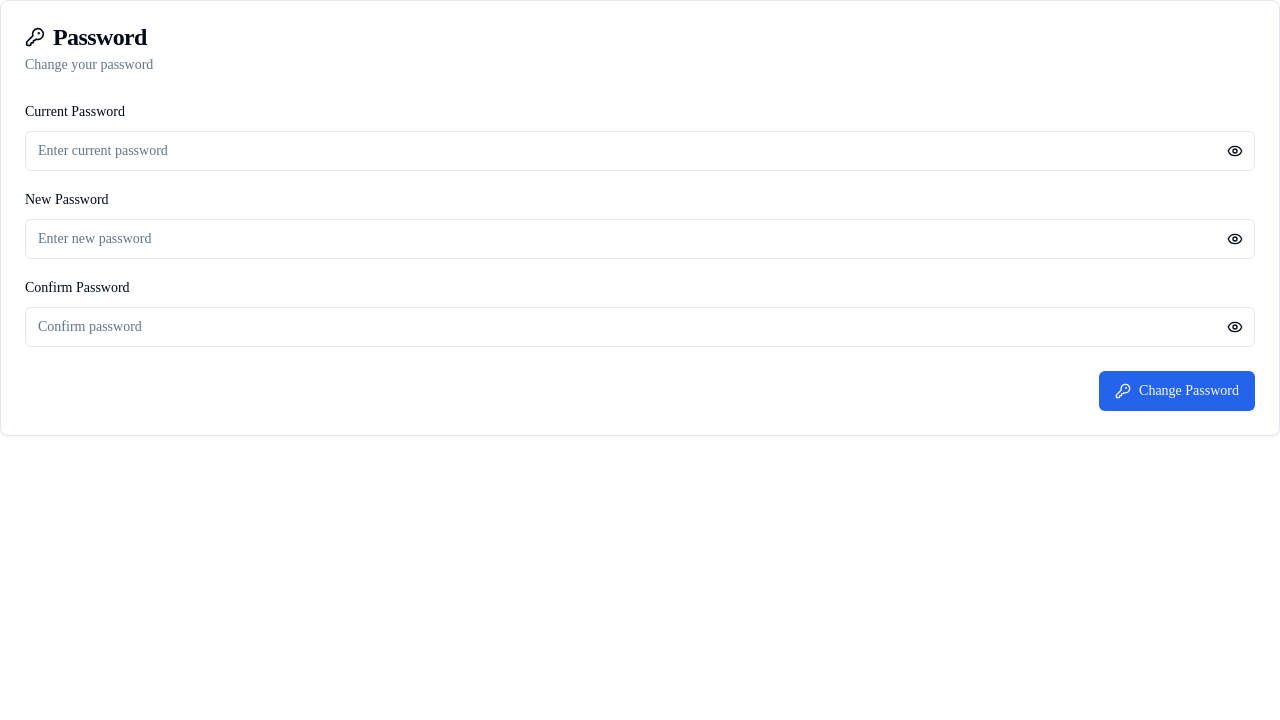
Test: PasswordChange › form submission › should show validation error for missing current password
Type "NewPassword123!" into the password field labelled "New Password".
click(640, 239); type("NewPassword123!")  # box 25,219 -> 1255,259
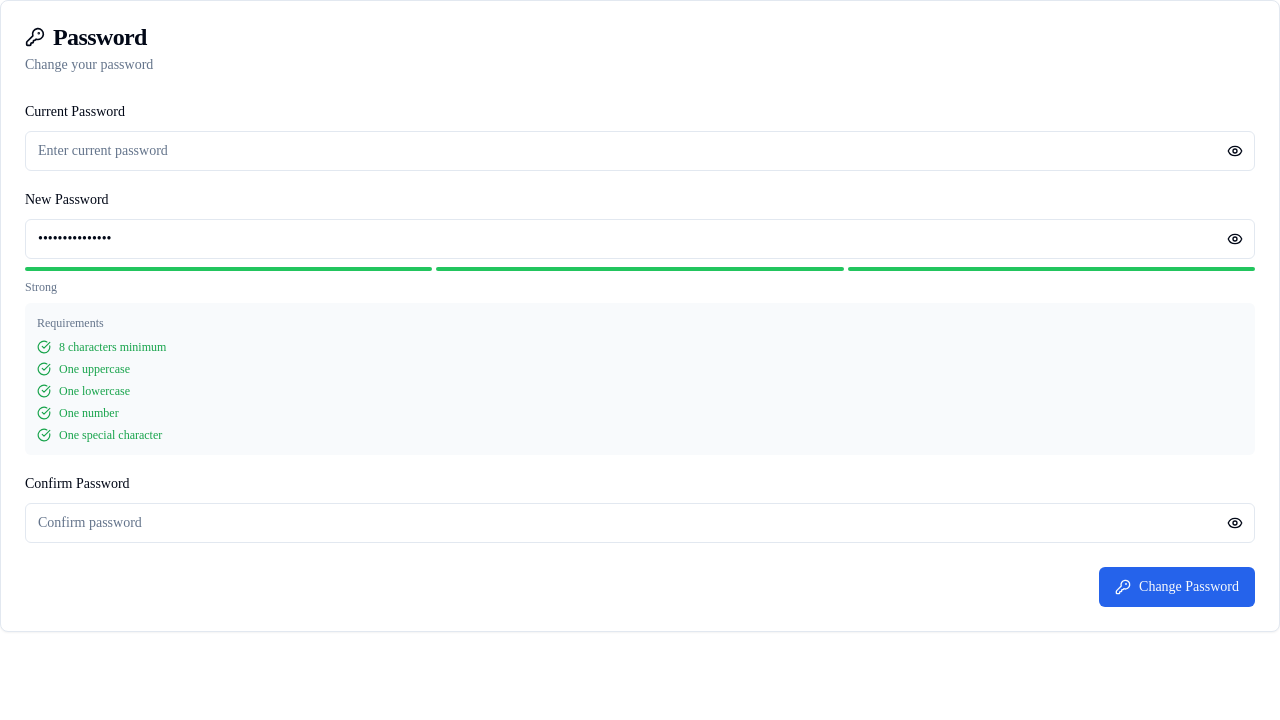
Type "NewPassword123!" into the password field labelled "Confirm Password".
click(640, 523); type("NewPassword123!")  # box 25,503 -> 1255,543
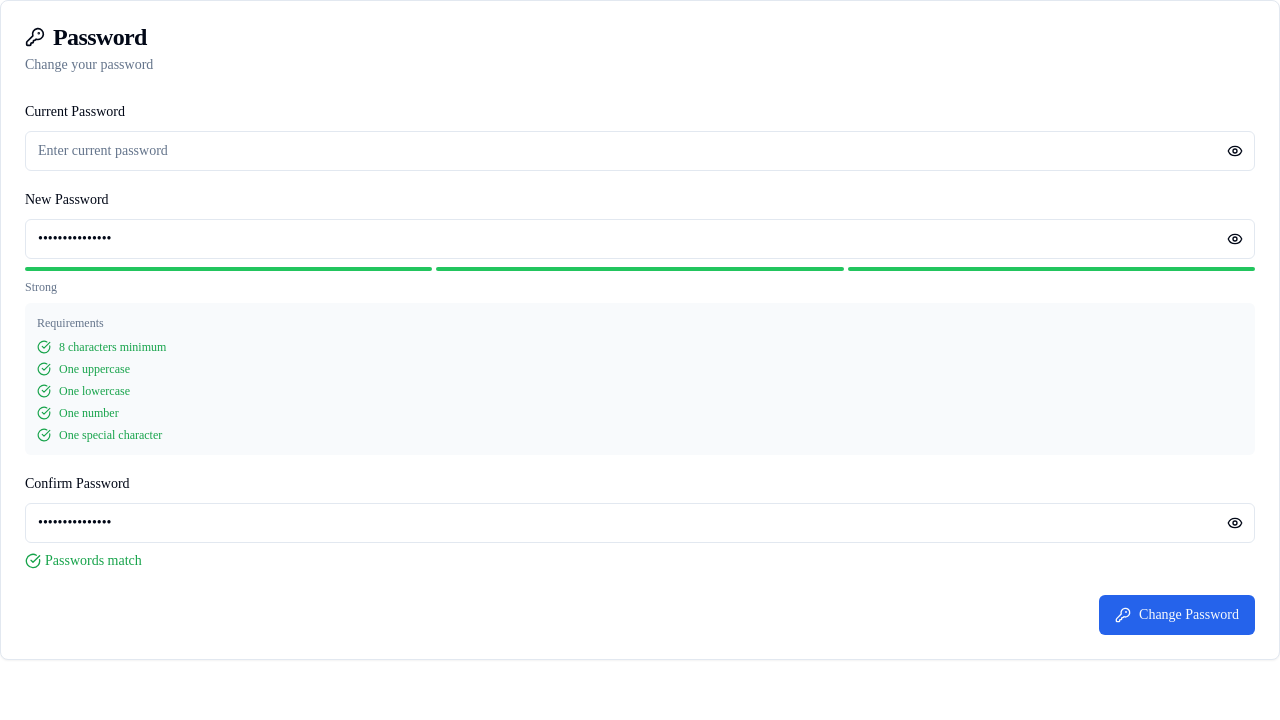
Click the button "Change Password".
click(1177, 615)  # box 1099,595 -> 1255,635
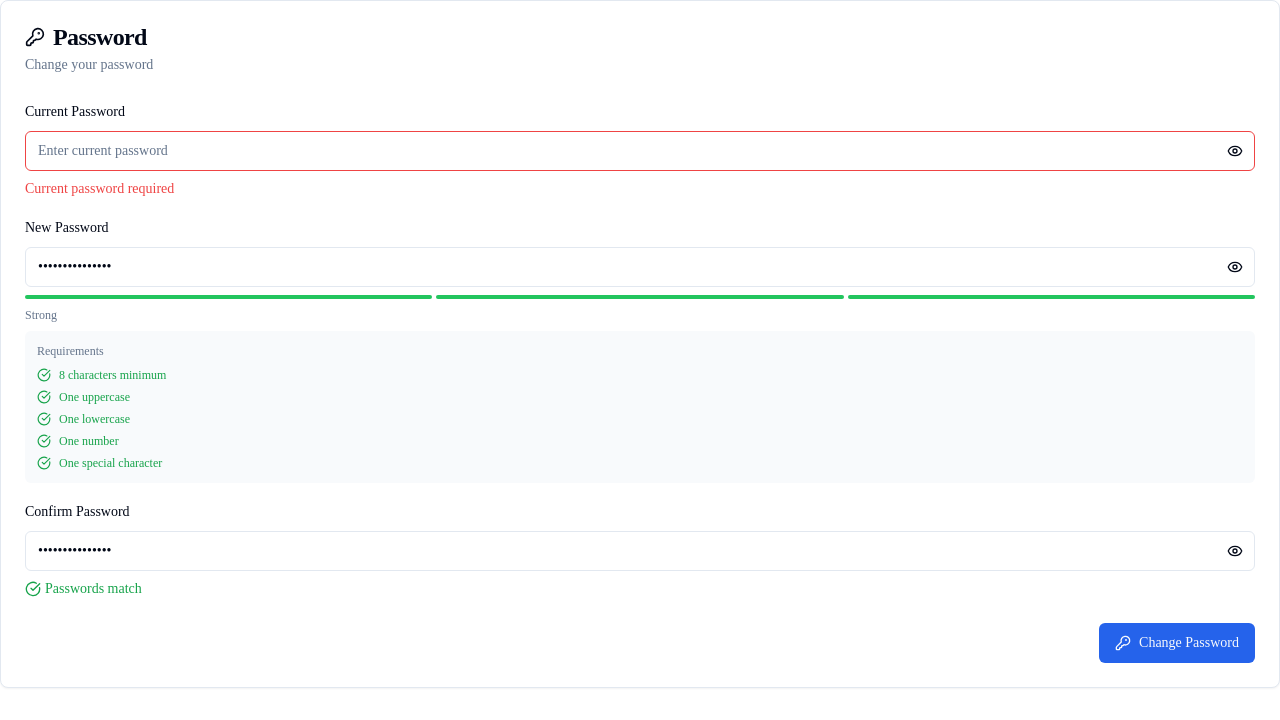
Check: the text "Current password required" is shown, box 25,181 -> 174,196
